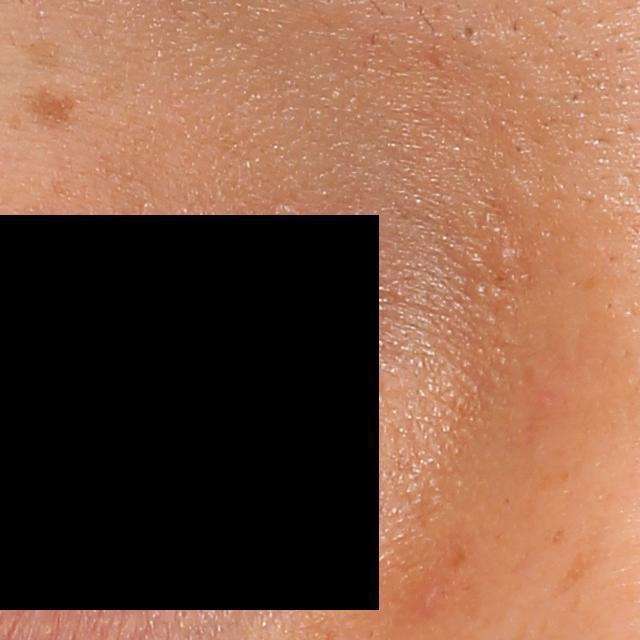comedo: (462, 21, 479, 40)
melasma: (543, 542, 608, 603), (22, 89, 84, 132), (450, 535, 476, 571)
